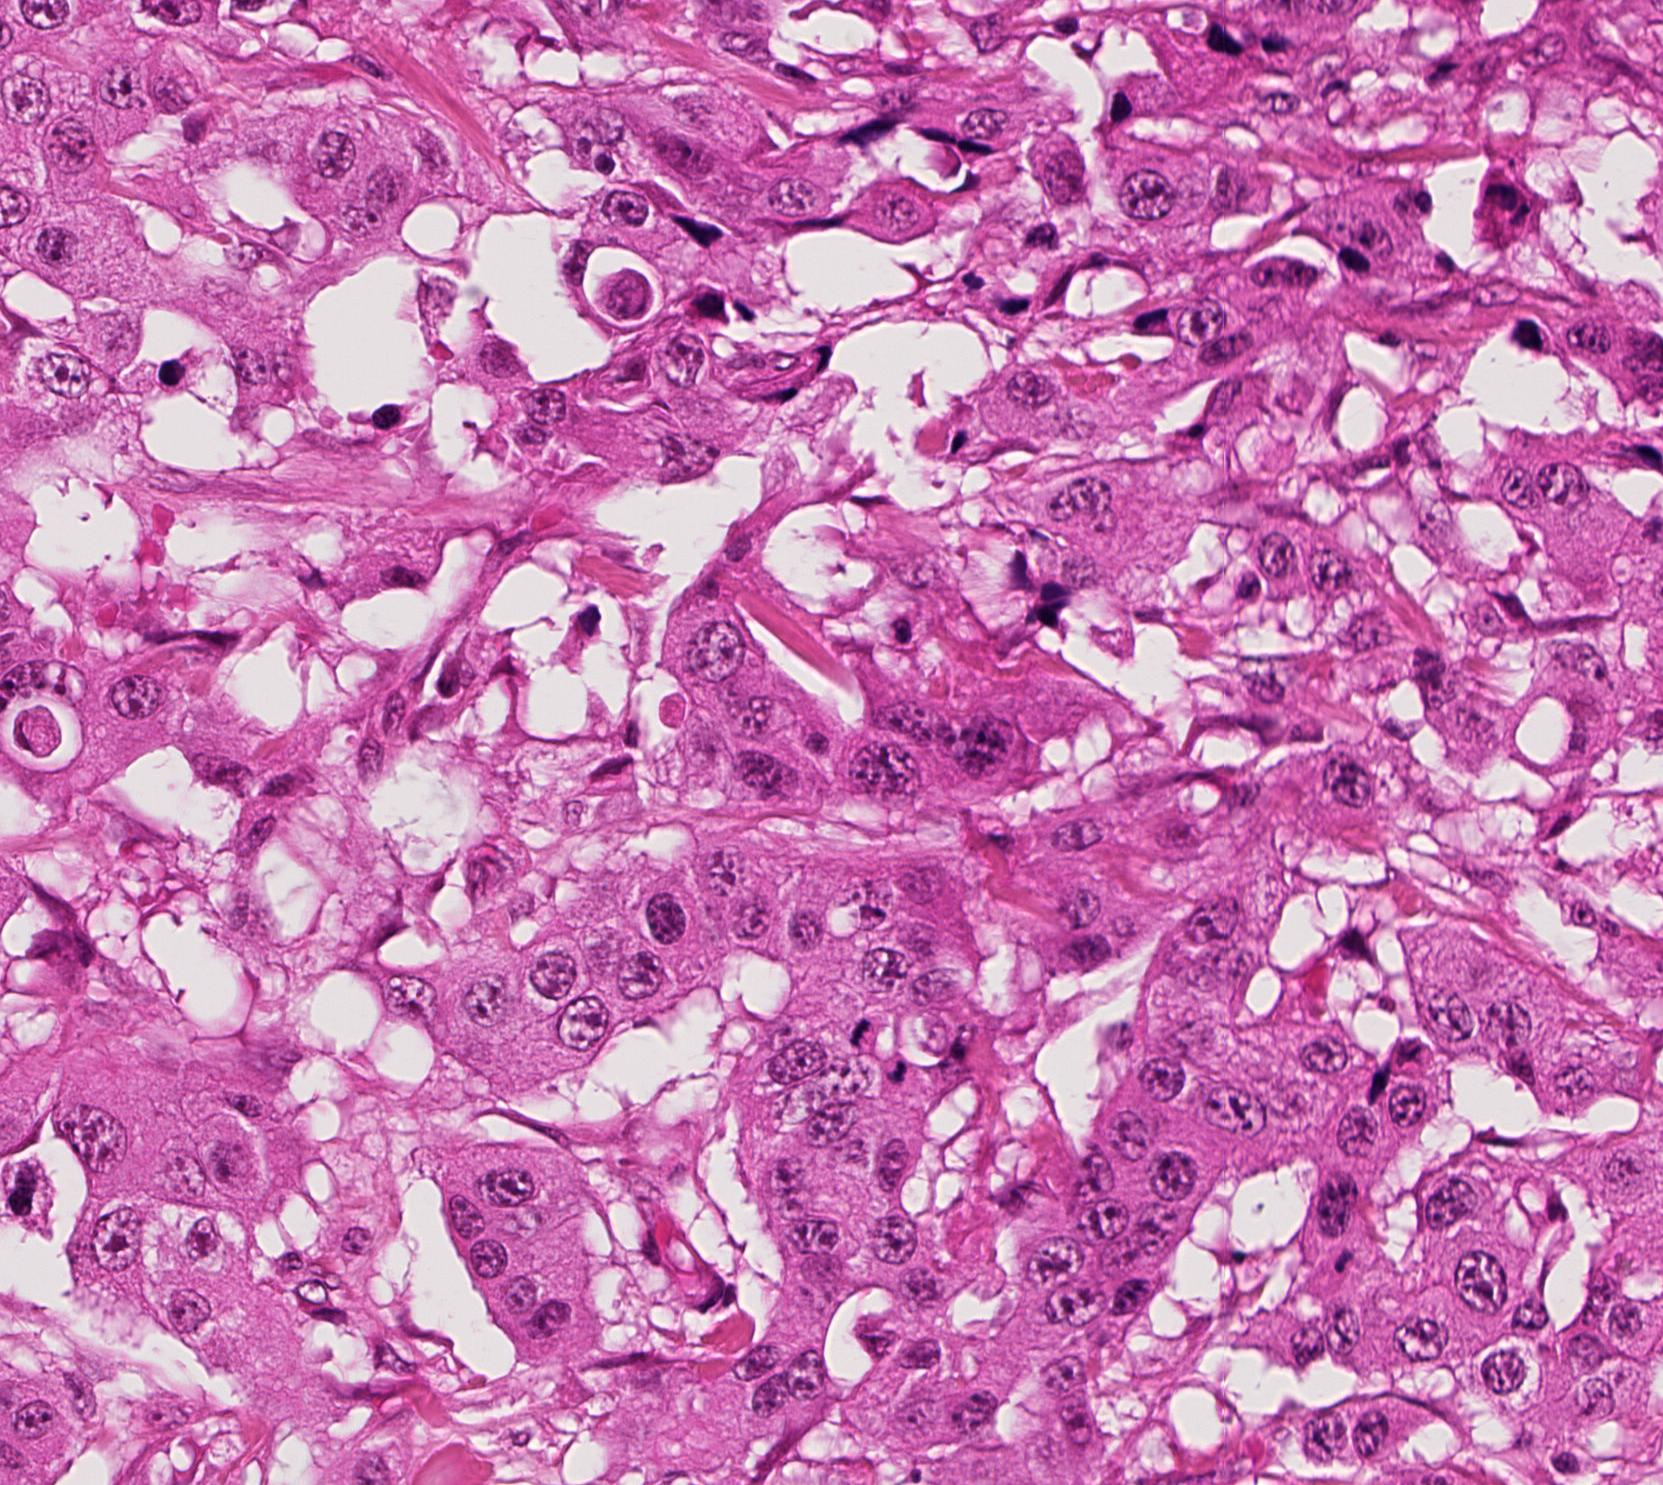mitosis: (853, 1025, 913, 1085)
